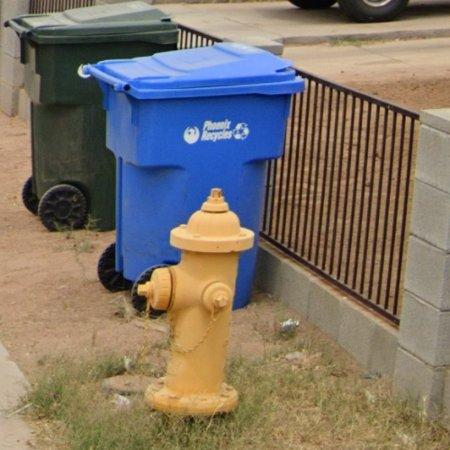a fire hydrant: (137, 188, 255, 417)
